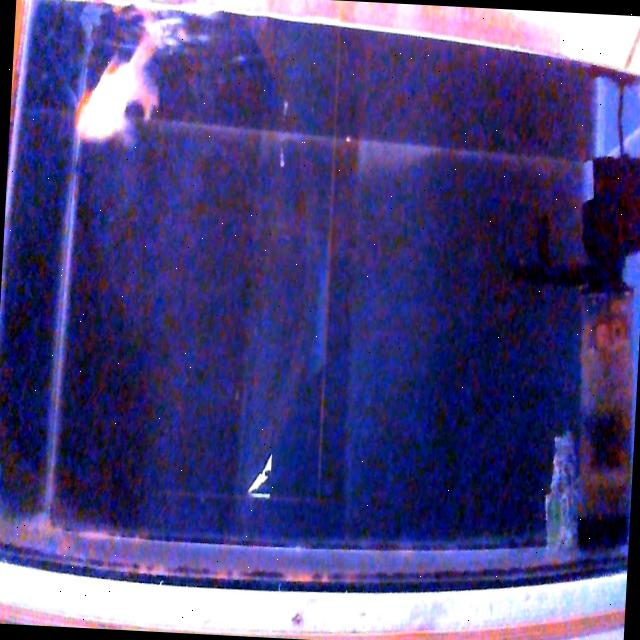fish: (72, 17, 162, 148)
